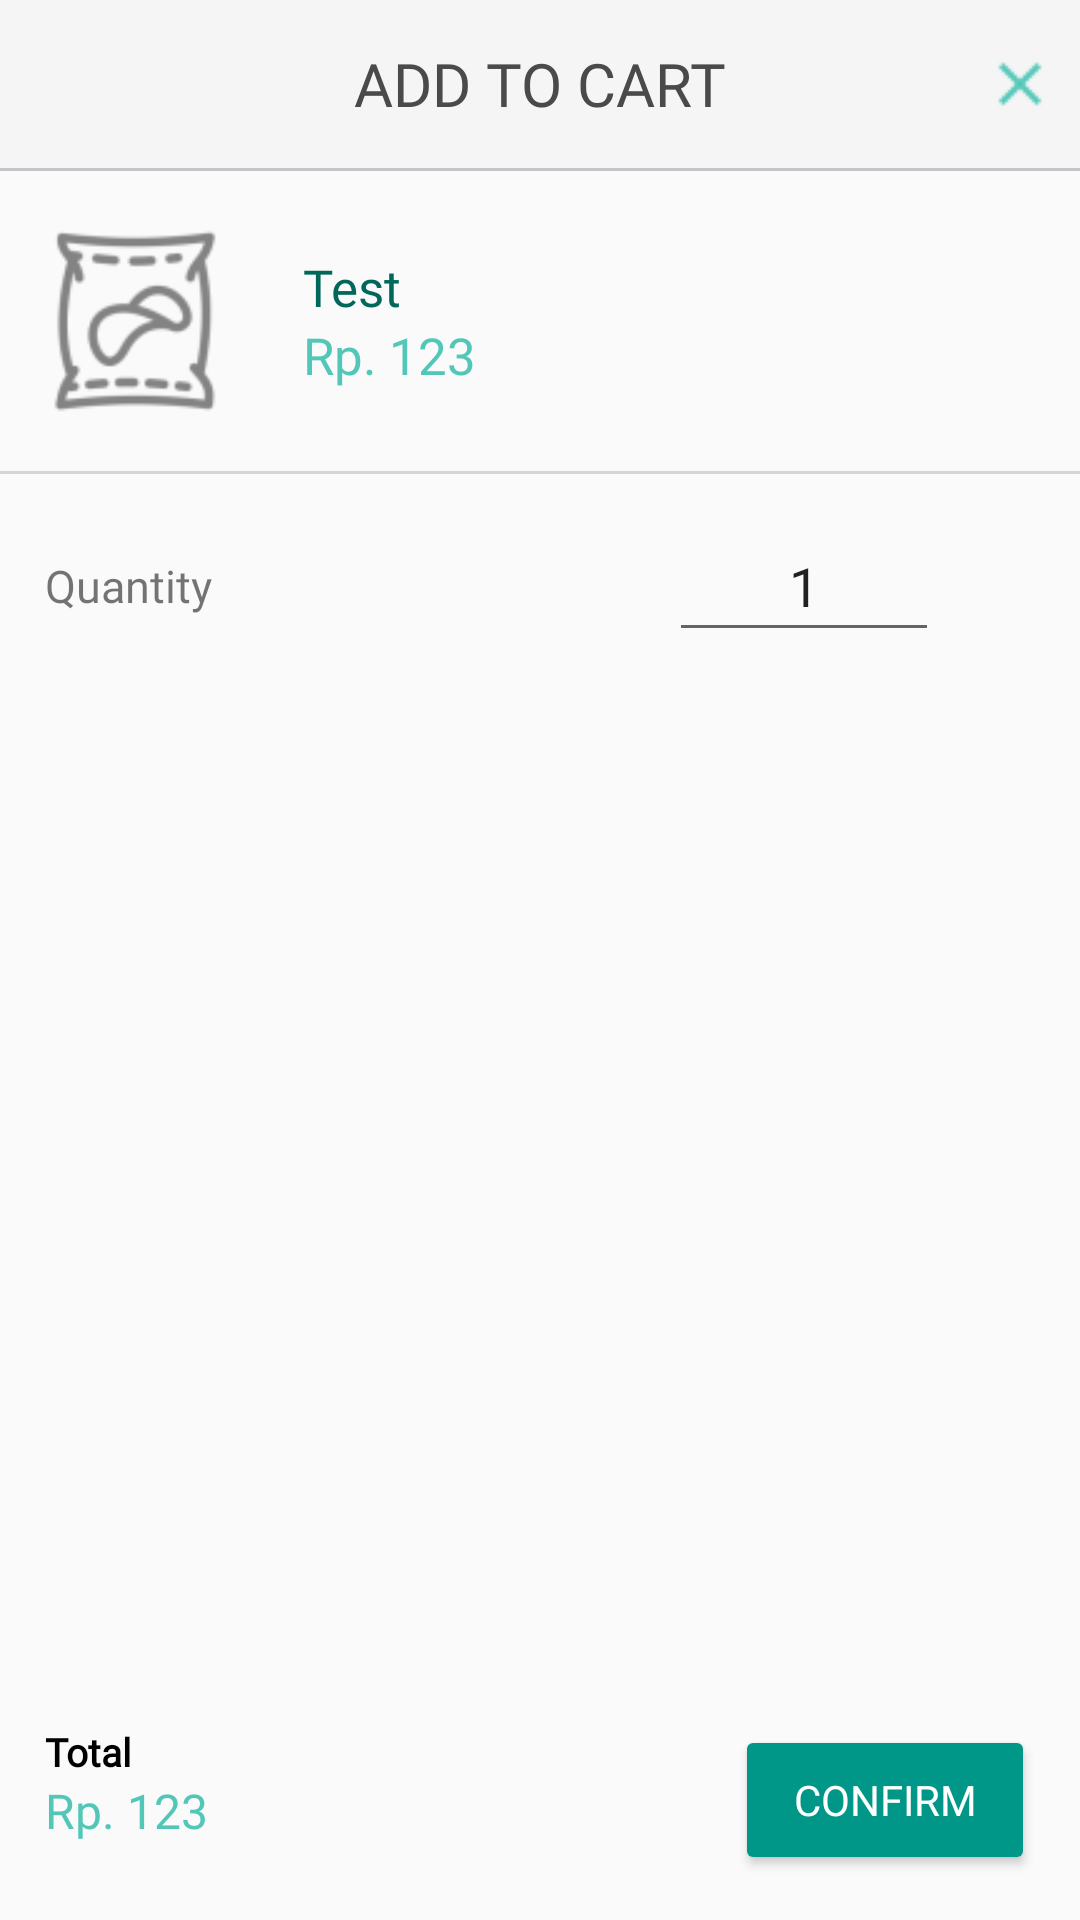

Icons on this 1080*1920 Android screen, each with its box as detection(x1, y1, x2, y2):
close: detection(998, 62, 1042, 106)
snack: detection(55, 232, 216, 410)
